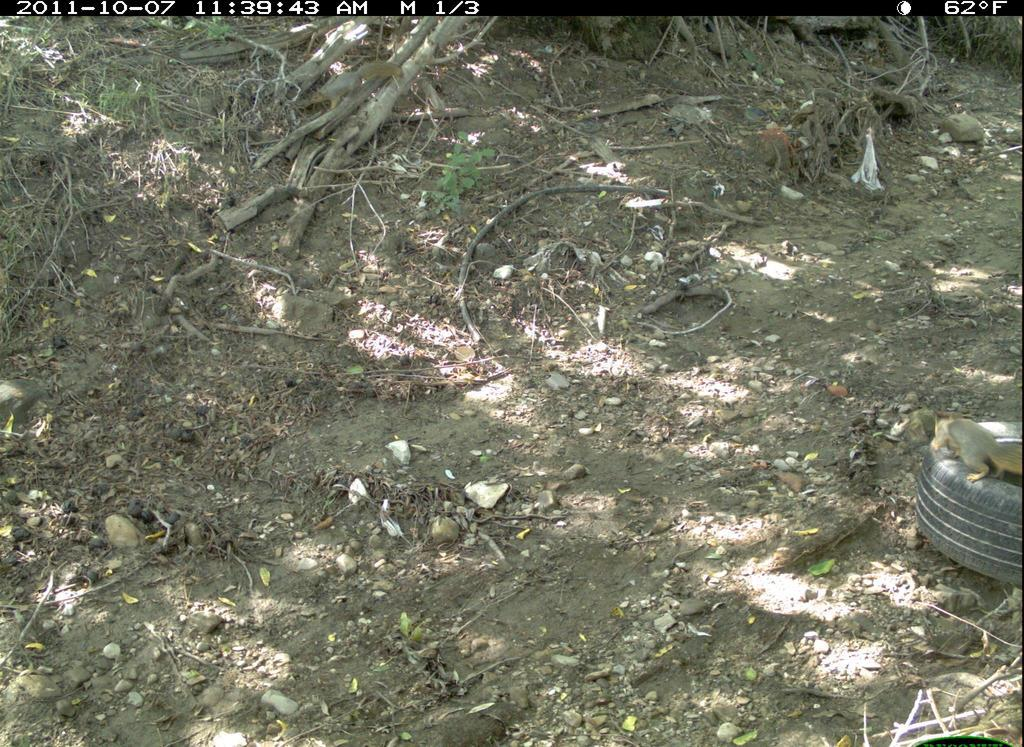squirrel: (920, 399, 1023, 492)
